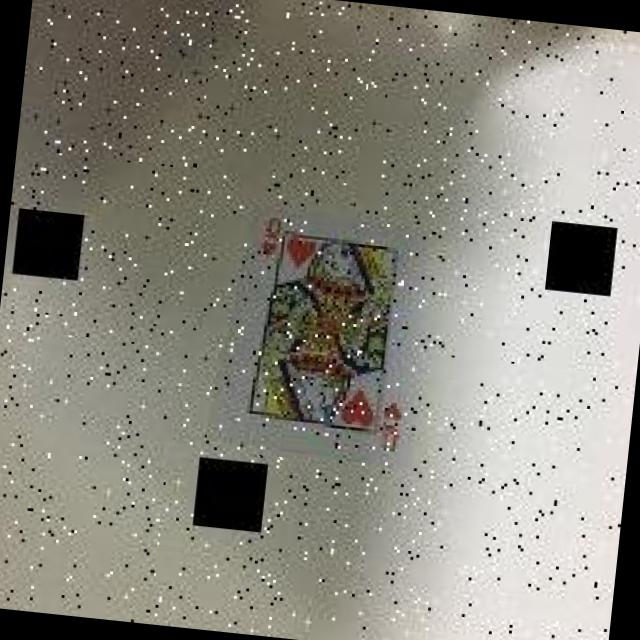Queen of hearts: (204, 208, 427, 471)
